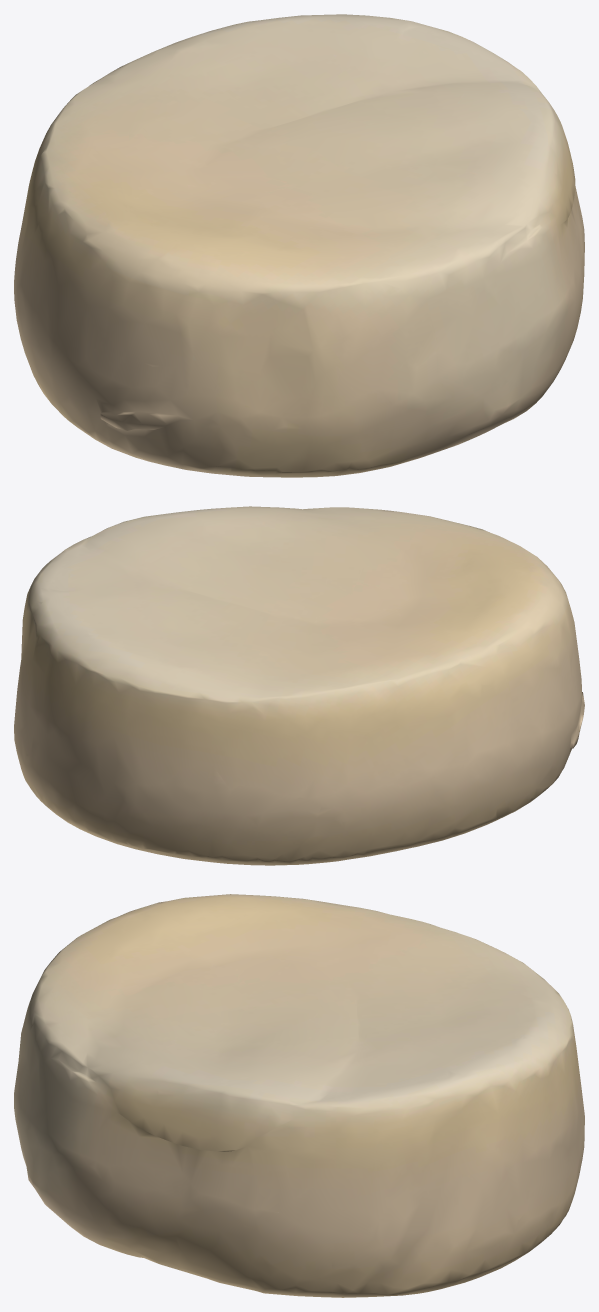
File: shell+meat.obj
3 views of the same model, one above another, from view 1: azimuth 30°, elevation 25°; view 2: azimuth 150°, elevation 25°; view 3: azimuth 270°, elevation 25° (orthographic). The views are drawn at different scales.
Parts seen in each view (by area): view 1: meshes[0]; view 2: meshes[0]; view 3: meshes[0].
Boxes of the visible parts, x1,y1,x2,y2 form: meshes[0]: (14, 14, 584, 477); meshes[0]: (14, 506, 584, 865); meshes[0]: (14, 894, 584, 1297).
Bounding box in the file's own units: 0.9973 × 0.403 × 1.
Materials: 1 (1 with a texture image).
